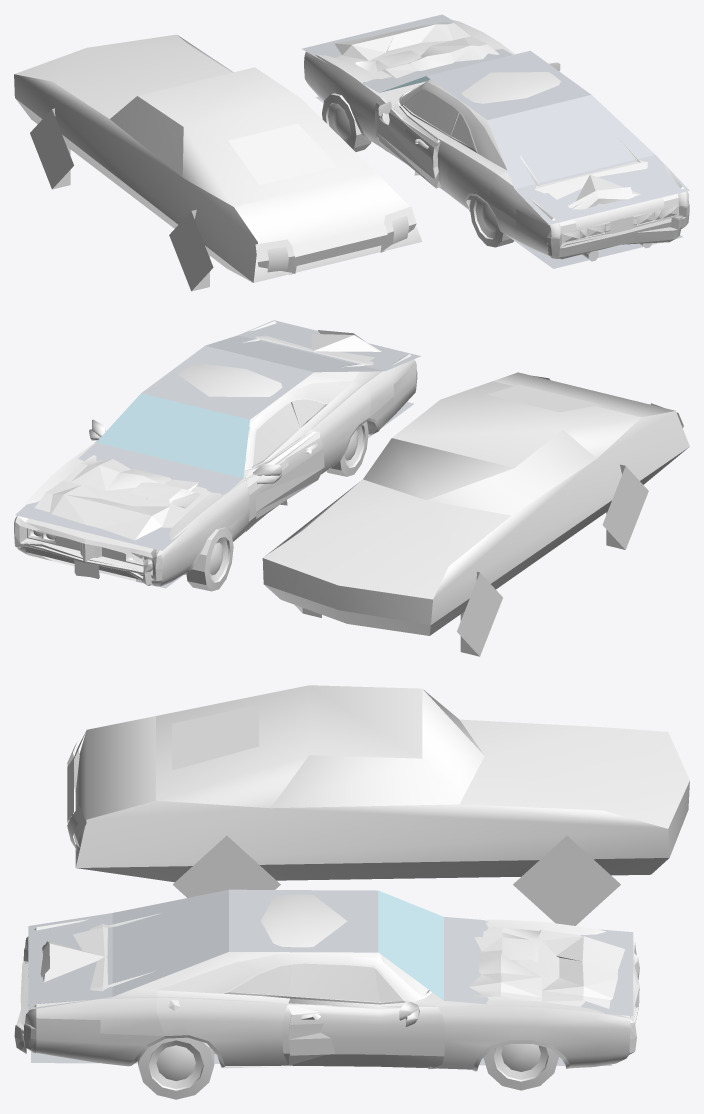
File: dukes.glb
3 renders of one model, top to bottom at view 1: azimuth 30°, elevation 25°; view 2: azimuth 150°, elevation 25°; view 3: azimuth 270°, elevation 25°, orthographic. The views are drawn at different scales.
Parts seen in each view (by area): view 1: chassis_vlo, dukes.dff.dukes_fix.dff.001.ColMesh, chassis, bonnet_dam, door_lf_dam, door_lf_ok, boot_dam, bump_rear_ok, wheel.002, boot_ok, bump_rear_dam, wheel.003 (+1 smaller); view 2: chassis_vlo, dukes.dff.dukes_fix.dff.001.ColMesh, chassis, bonnet_dam, door_lf_dam, door_lf_ok, bonnet_ok, wheel.002, bump_front_ok, boot_dam, wheel.003, bump_front_dam; view 3: chassis_vlo, chassis, dukes.dff.dukes_fix.dff.001.ColMesh, door_rf_ok, bonnet_dam, wheel.001, wheel, door_rf_dam, boot_dam, bonnet_ok, bump_rear_ok.
Part boxes in pixels (left/top/right/bottom): chassis_vlo: left=14, top=34, right=422, bottom=291; dukes.dff.dukes_fix.dff.001.ColMesh: left=301, top=14, right=689, bottom=268; chassis: left=304, top=20, right=688, bottom=261; bonnet_dam: left=334, top=22, right=499, bottom=78; door_lf_dam: left=375, top=98, right=441, bottom=188; door_lf_ok: left=373, top=89, right=458, bottom=190; boot_dam: left=541, top=174, right=640, bottom=209; bump_rear_ok: left=556, top=203, right=689, bottom=259; wheel.002: left=322, top=93, right=371, bottom=151; boot_ok: left=542, top=163, right=664, bottom=228; bump_rear_dam: left=547, top=215, right=682, bottom=258; wheel.003: left=469, top=196, right=513, bottom=247; chassis_vlo: left=262, top=372, right=689, bottom=656; dukes.dff.dukes_fix.dff.001.ColMesh: left=15, top=320, right=420, bottom=588; chassis: left=16, top=321, right=416, bottom=586; bonnet_dam: left=34, top=455, right=200, bottom=540; door_lf_dam: left=244, top=429, right=324, bottom=531; door_lf_ok: left=243, top=402, right=309, bottom=531; bonnet_ok: left=25, top=485, right=210, bottom=552; wheel.002: left=186, top=527, right=233, bottom=591; bump_front_ok: left=14, top=517, right=162, bottom=582; boot_dam: left=311, top=330, right=381, bottom=362; wheel.003: left=326, top=421, right=368, bottom=476; bump_front_dam: left=22, top=526, right=152, bottom=585; chassis_vlo: left=67, top=685, right=689, bottom=925; chassis: left=25, top=894, right=630, bottom=1071; dukes.dff.dukes_fix.dff.001.ColMesh: left=28, top=889, right=633, bottom=1065; door_rf_ok: left=282, top=963, right=445, bottom=1068; bonnet_dam: left=469, top=927, right=624, bottom=1008; wheel.001: left=138, top=1037, right=214, bottom=1099; wheel: left=483, top=1044, right=558, bottom=1090; door_rf_dam: left=288, top=1003, right=437, bottom=1065; boot_dam: left=40, top=927, right=104, bottom=982; bonnet_ok: left=483, top=927, right=635, bottom=1017; bump_rear_ok: left=20, top=949, right=36, bottom=1053.
Size of what is drawn, in the model's own units: 5.7 by 1.84 by 6.22.
